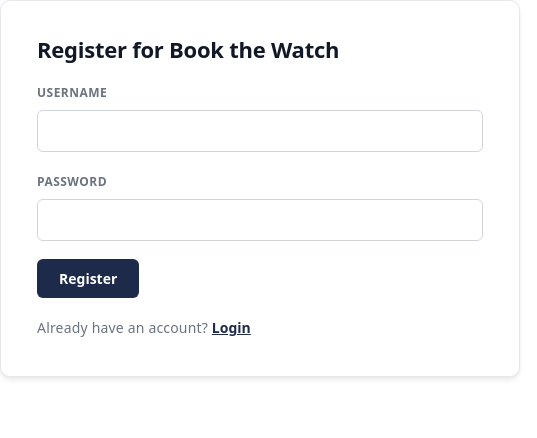
Test: RegistrationForm › submits valid fields and shows the success message
The width and height of the screenshot is (537, 438).
Type "alice" into the field labelled "Username".
click(260, 131); type("alice")  # box top-left (37, 110), bottom-right (483, 152)
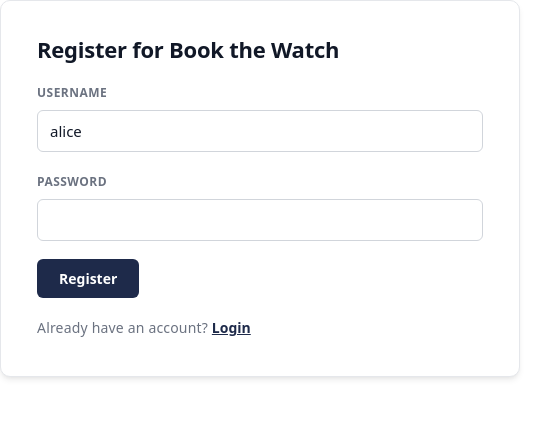
Type "password1" into the password field labelled "Password".
click(260, 220); type("password1")  # box top-left (37, 199), bottom-right (483, 241)
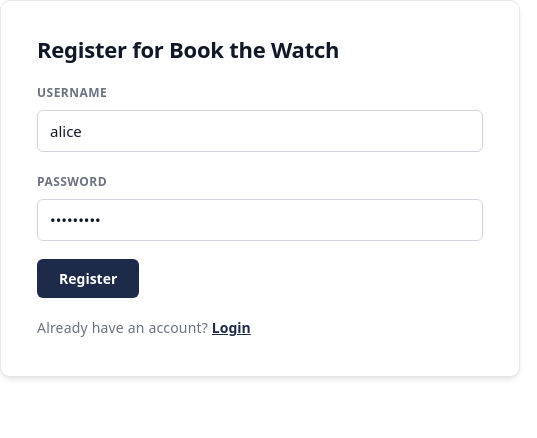
Click the button "Register".
click(88, 279)  # box top-left (37, 259), bottom-right (139, 298)
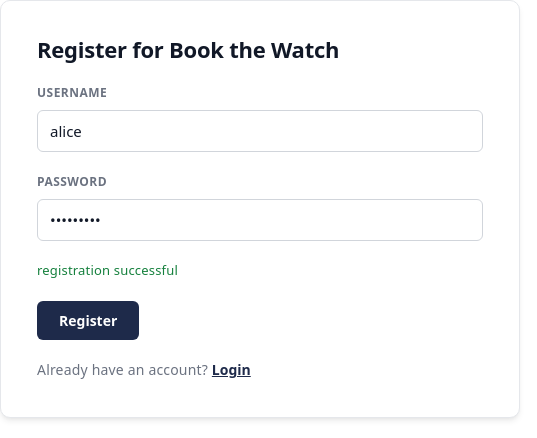
Check: the text "registration successful" is shown, box top-left (37, 261), bottom-right (178, 279)
